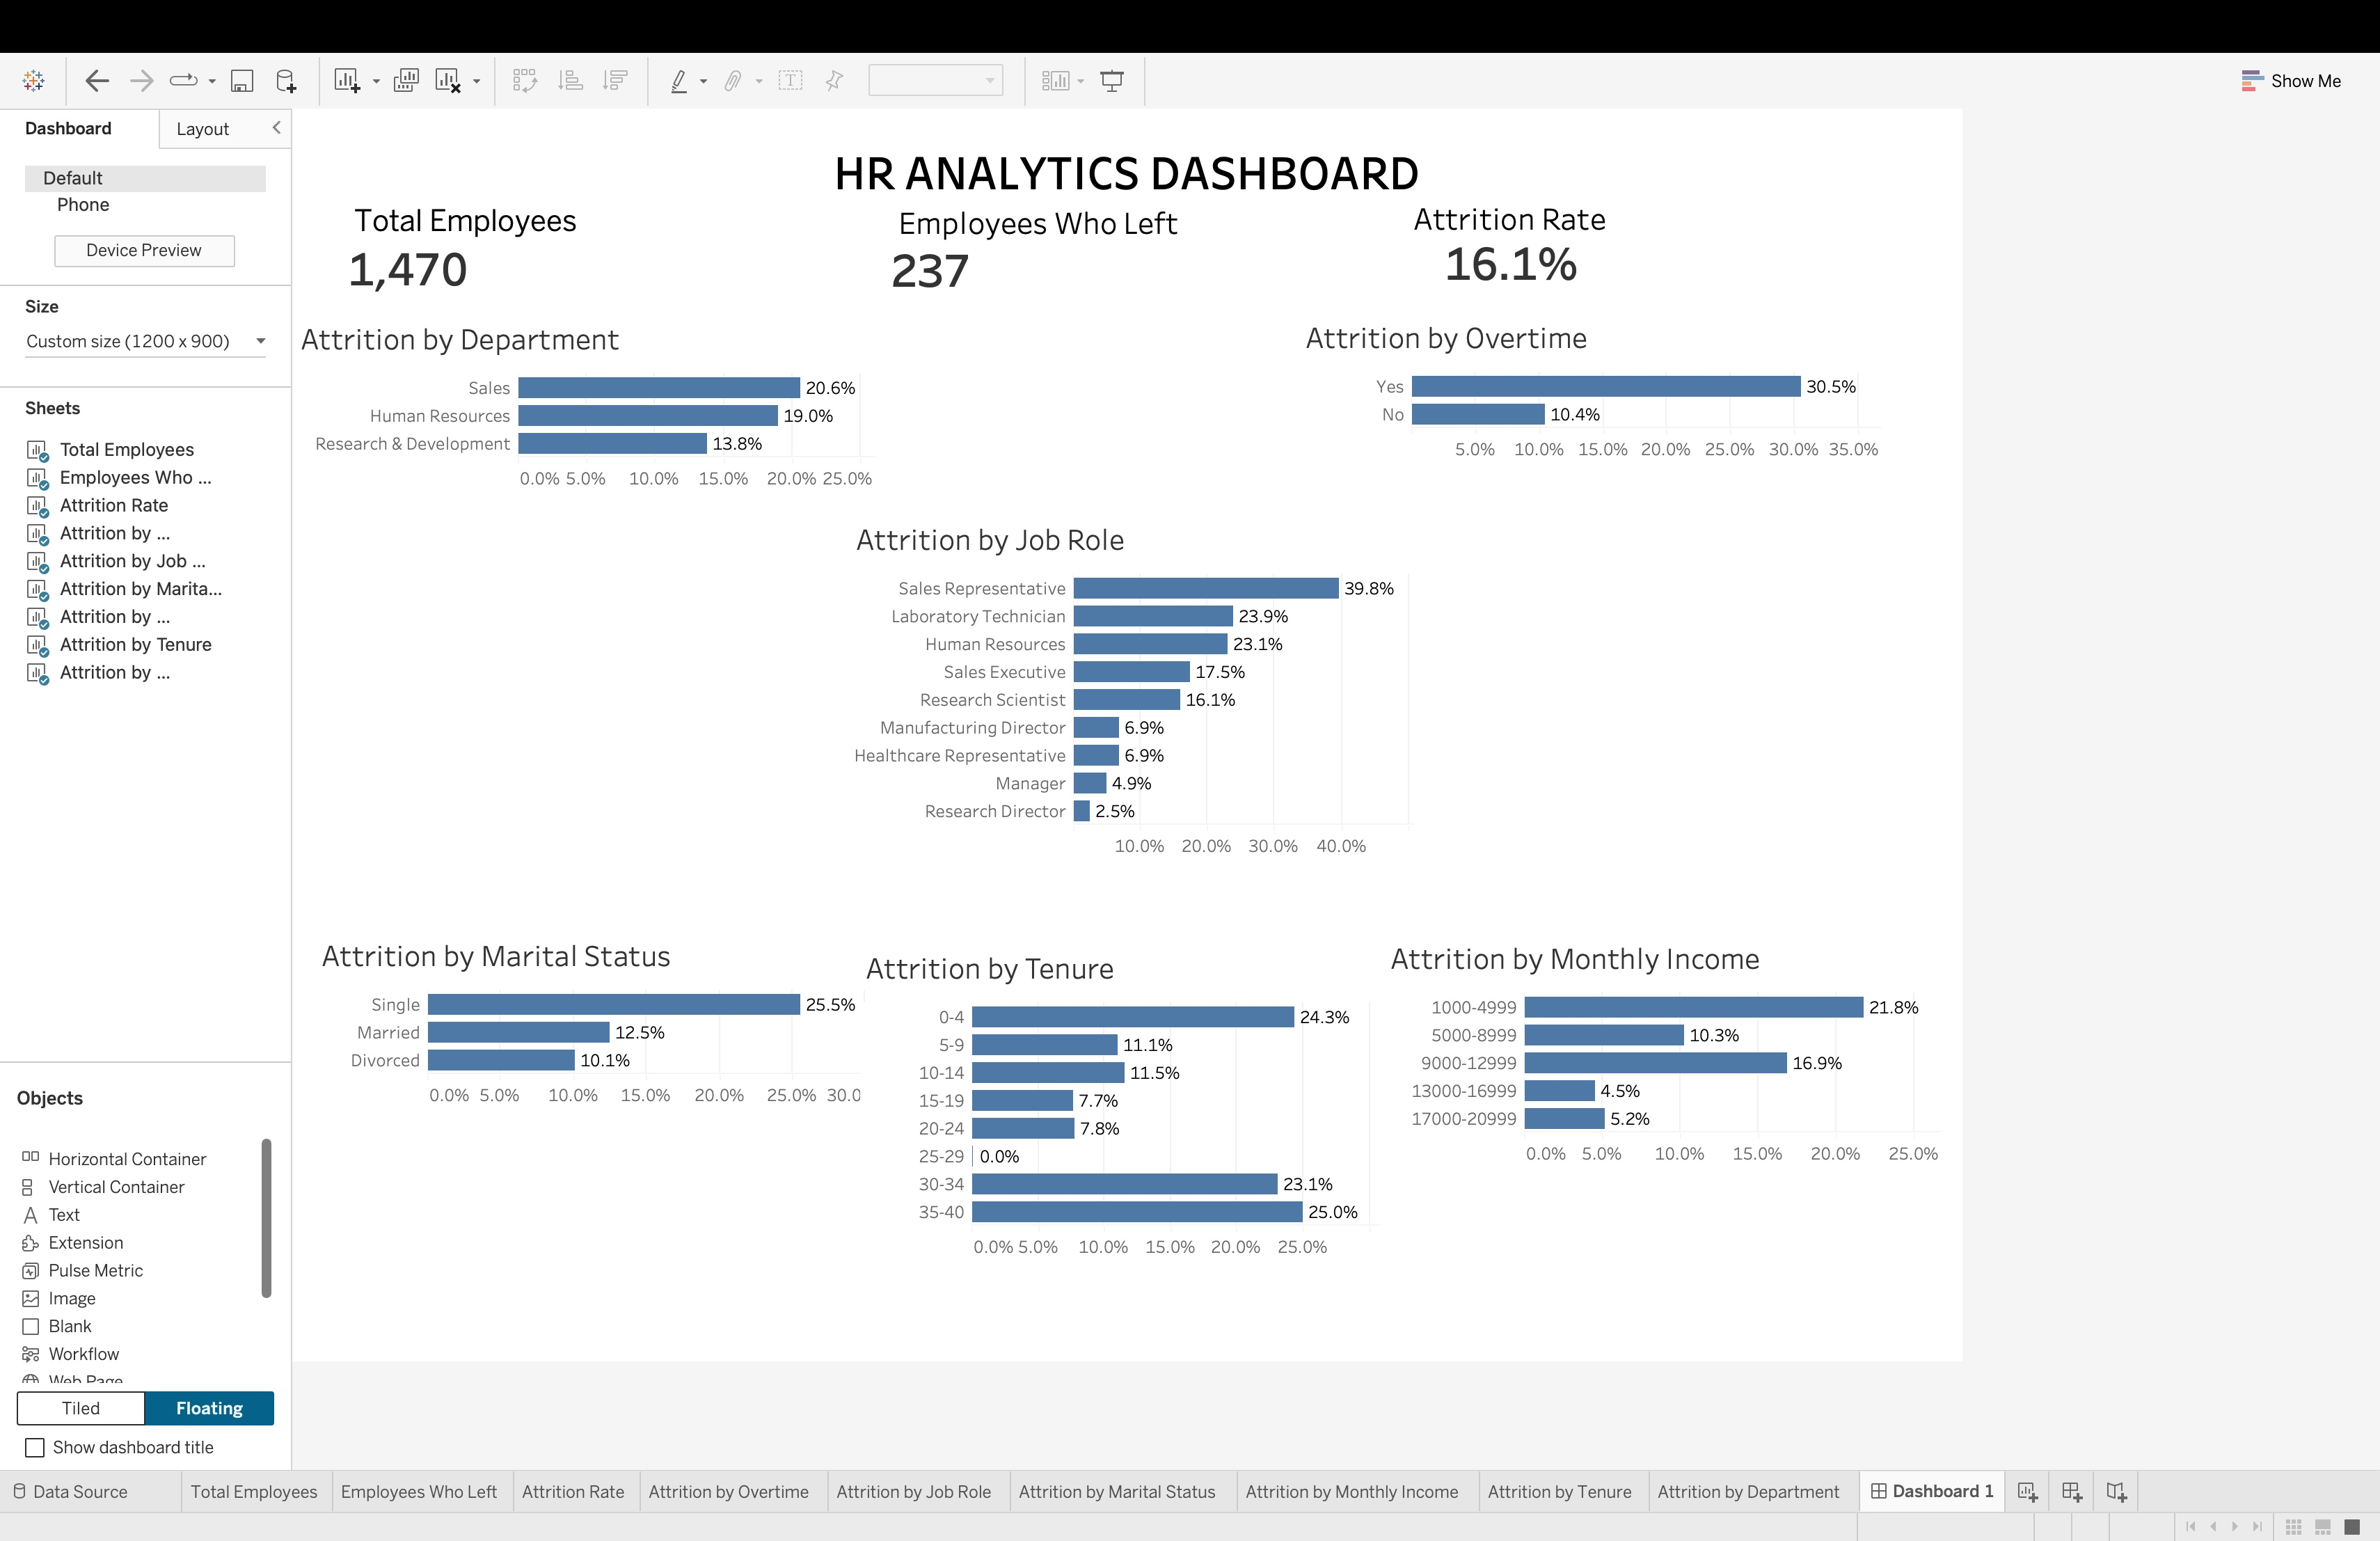

What the dashboard file says about the page in this screenshot:
{"tool":"tableau","page":{"name":"Dashboard 1","canvas":[1200,900],"ordinal":0},"visuals":[{"type":"text","box":[0,10,1200,70]},{"type":"text","box":[803,63,144,30]},{"type":"text","box":[42,65,166,30]},{"type":"text","box":[433,66,207,30]},{"type":"worksheet","title":"Total Employees","mark":"Automatic","box":[31,93,377,188]},{"type":"worksheet","title":"Employees Who Left","mark":"Automatic","box":[412,94,268,174]},{"type":"worksheet","title":"Attrition by Overtime","mark":"Automatic","rows":["OverTime"],"cols":["Calculation_1056173216399361"],"box":[724,146,418,322]},{"type":"worksheet","title":"Attrition by Department","mark":"Automatic","rows":["Department"],"cols":["Calculation_1056173216399361"],"box":[2,147,418,326]},{"type":"worksheet","title":"Attrition by Job Role","mark":"Automatic","rows":["JobRole"],"cols":["Calculation_1056173216399361"],"box":[401,291,405,300]},{"type":"worksheet","title":"Attrition by Marital Status","mark":"Automatic","rows":["MaritalStatus"],"cols":["Calculation_1056173216399361"],"box":[17,590,405,300]},{"type":"worksheet","title":"Attrition by Monthly Income","mark":"Automatic","rows":["Calculation_1056173224615938"],"cols":["Calculation_1056173216399361"],"box":[785,592,400,300]},{"type":"worksheet","title":"Attrition by Tenure","mark":"Automatic","rows":["Calculation_1056173225308163"],"cols":["Calculation_1056173216399361"],"box":[408,599,374,300]}]}

Visuals, with their boxes in screenshot pixels (x1, y1, x2, y2):
text: BBox(403, 47, 2361, 161)
text: BBox(1713, 134, 1948, 183)
text: BBox(471, 137, 742, 186)
text: BBox(1109, 139, 1447, 188)
"Total Employees" worksheet: BBox(454, 183, 1068, 489)
"Employees Who Left" worksheet: BBox(1075, 184, 1512, 468)
"Attrition by Overtime" worksheet: BBox(1584, 269, 2266, 794)
"Attrition by Department" worksheet: BBox(406, 271, 1088, 803)
"Attrition by Job Role" worksheet: BBox(1057, 506, 1717, 995)
"Attrition by Marital Status" worksheet: BBox(431, 993, 1091, 1483)
"Attrition by Monthly Income" worksheet: BBox(1683, 997, 2335, 1486)
"Attrition by Tenure" worksheet: BBox(1068, 1008, 1679, 1498)
